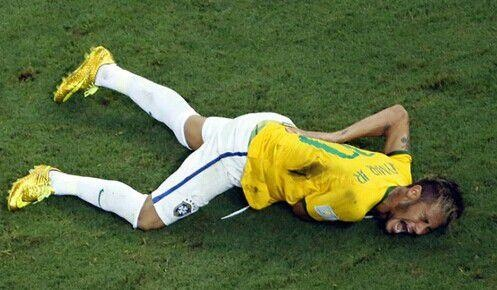falling: (16, 27, 483, 257)
